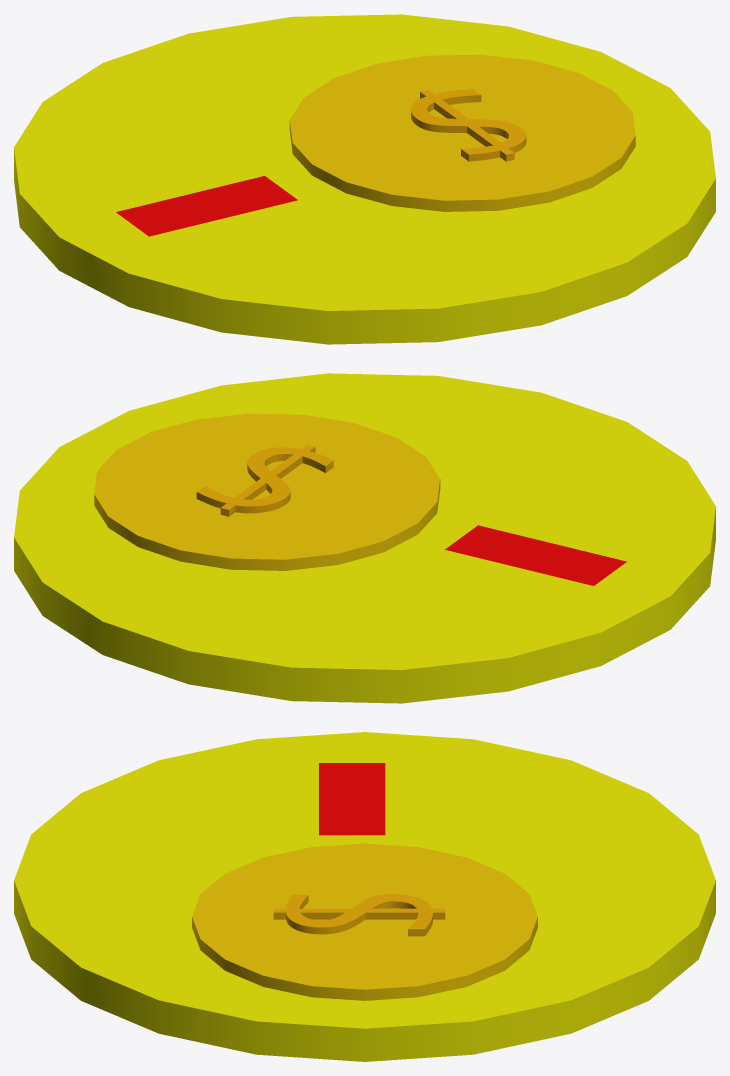
The model's file is coinDownObj.fbx.
3 views of the same model, one above another, from view 1: azimuth 30°, elevation 25°; view 2: azimuth 150°, elevation 25°; view 3: azimuth 270°, elevation 25° (orthographic).
Parts seen in each view (by area): view 1: coinDownObj; view 2: coinDownObj; view 3: coinDownObj.
Boxes of the visible parts, x1,y1,x2,y2 form: coinDownObj: (14,14,715,344); coinDownObj: (14,373,715,703); coinDownObj: (14,732,715,1061).
Bounding box in the file's own units: 0.8442 × 0.0681 × 0.8442.
